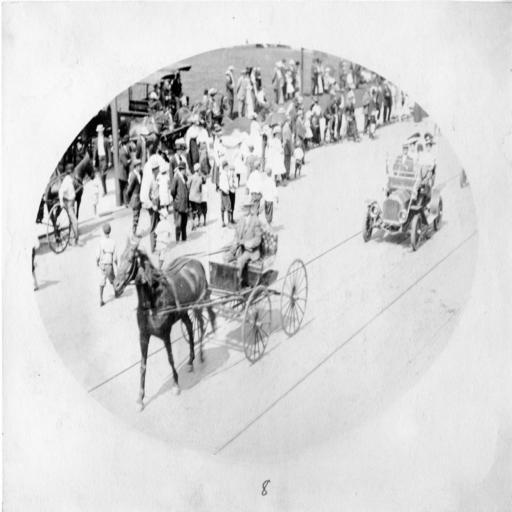horse: (113, 236, 216, 412), (34, 151, 95, 244), (128, 106, 174, 142), (175, 106, 210, 136)
